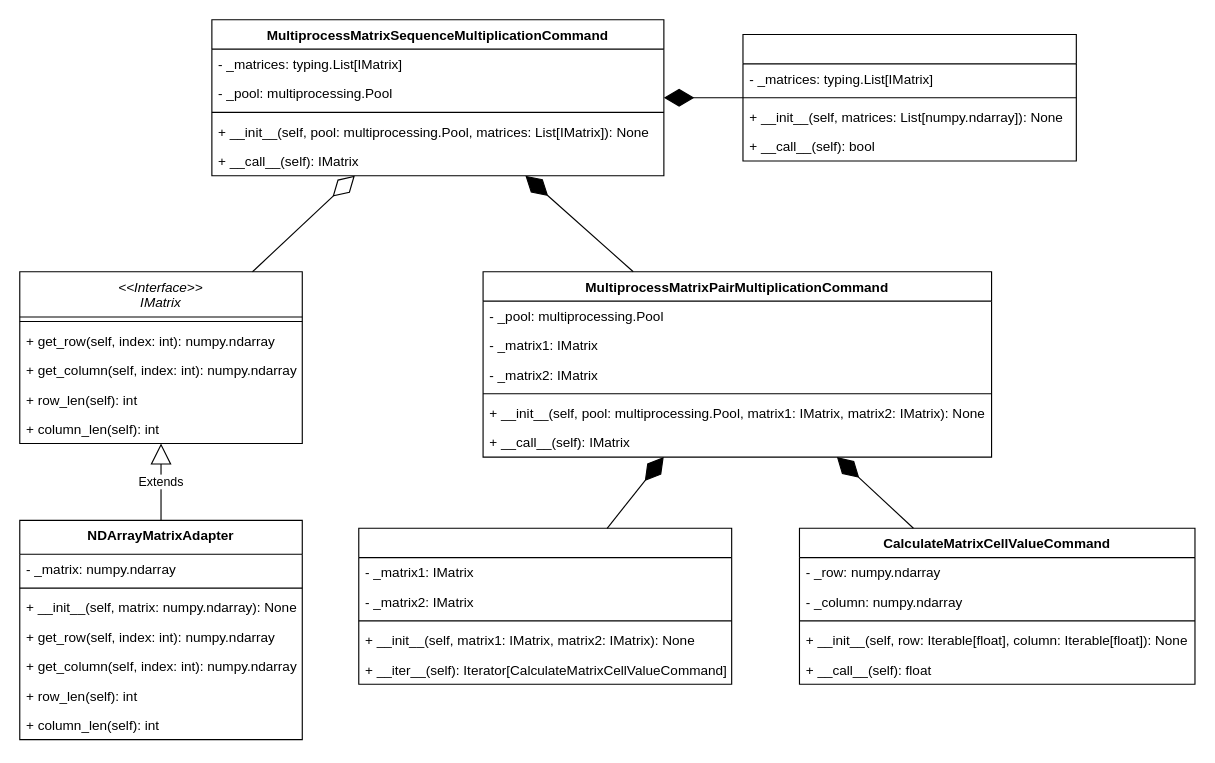
This 1215x763 diagram has some shape labels left out. Each missing label, with the box of its shape:
MatrixPairMultiplicationTaskBuilder: (358, 527, 732, 684)
ValidateMatrixSequenceCommand: (742, 33, 1076, 161)
